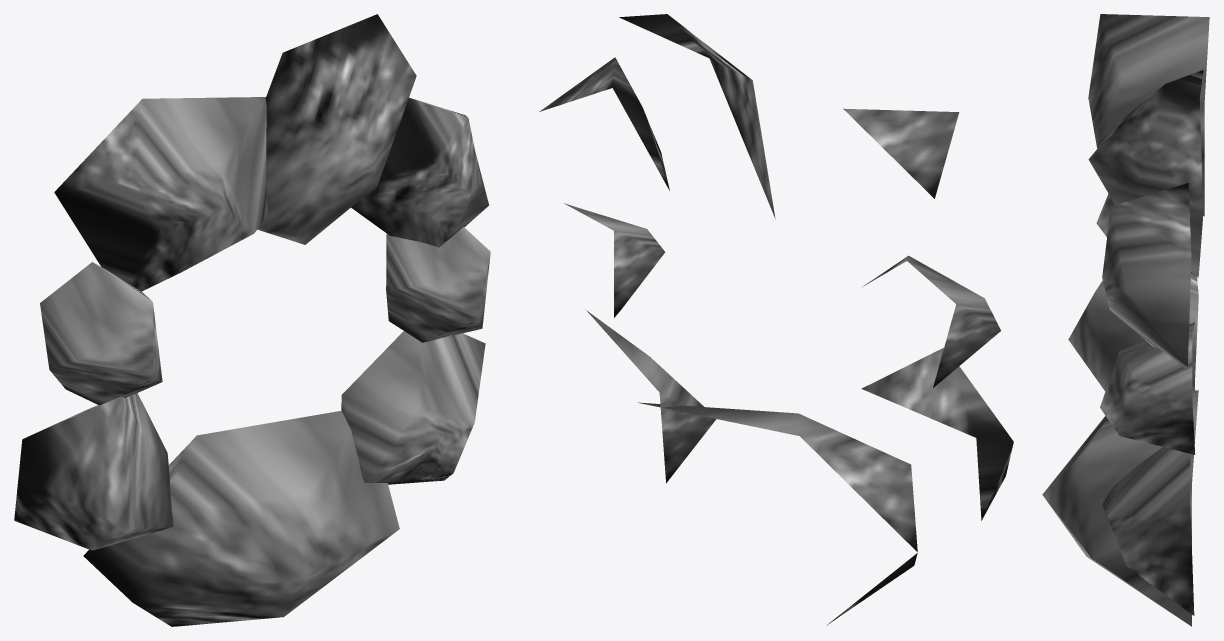
The model's file is Stone05.glb.
3 views of the same model, side by side, from view 1: azimuth 30°, elevation 25°; view 2: azimuth 150°, elevation 25°; view 3: azimuth 270°, elevation 25° (orthographic).
Parts seen in each view (by area): view 1: model_Stone05; view 2: model_Stone05; view 3: model_Stone05.
Boxes of the visible parts, x1,y1,x2,y2 form: model_Stone05: (14,14,490,626); model_Stone05: (539,14,1013,625); model_Stone05: (1042,14,1209,626).
Size of the model in its own units: 0.9821 by 1.12 by 0.2971.
1 material, 1 textured.
